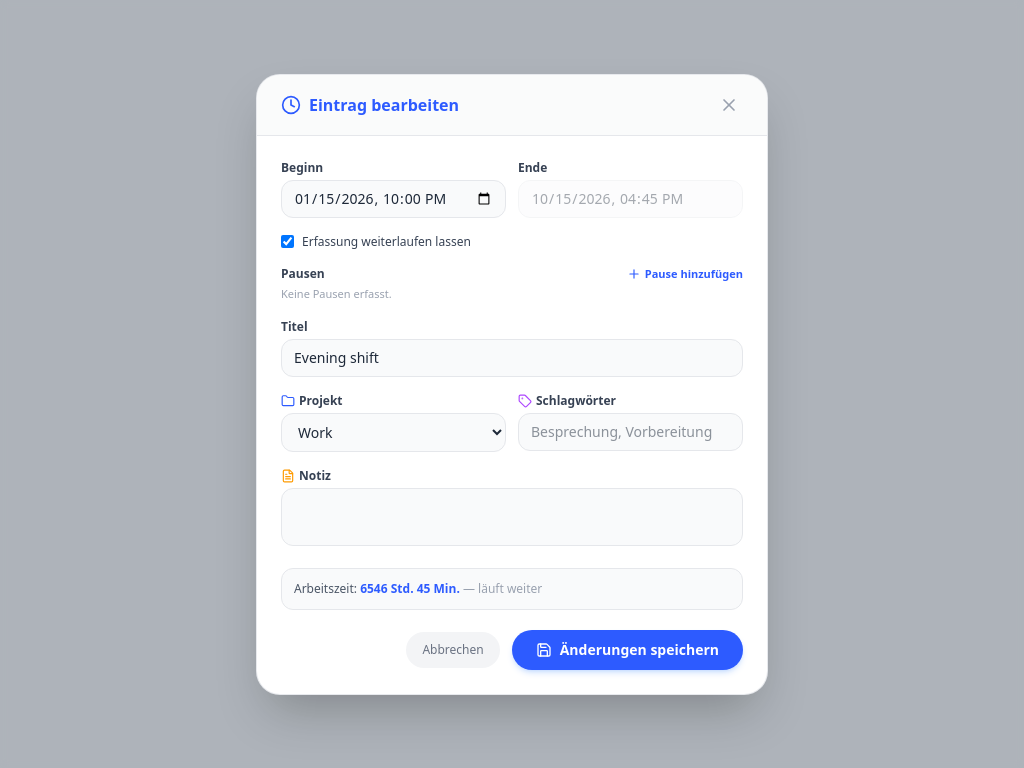
Scenario: EntryFormModal › warns before stopping a running entry through the form
Click the checkbox labelled "Erfassung weiterlaufen lassen".
click(288, 242)  # box [281,235,294,248]
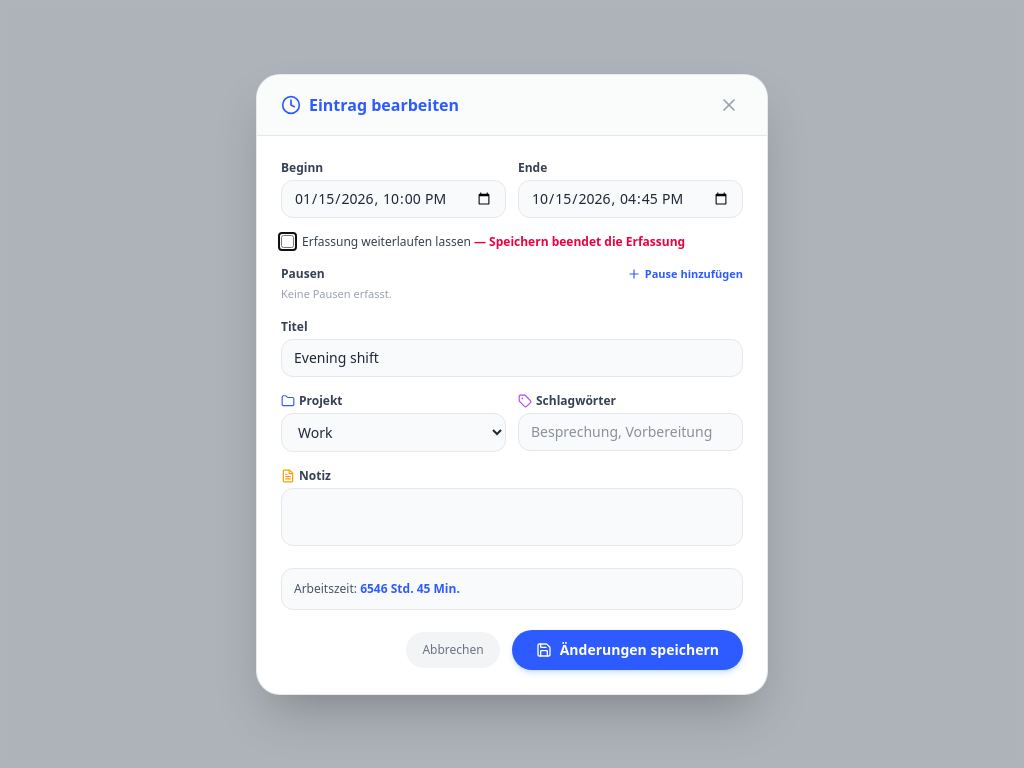
Expected: the text "— Speichern beendet die Erfassung" is shown, [471,232,685,250]
Expected: the field labelled "Ende" is enabled, [518,180,743,218]
